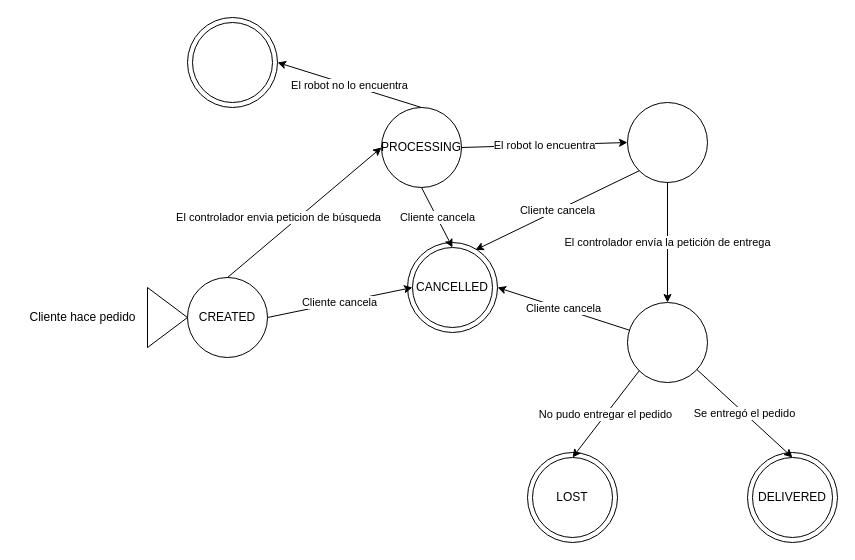
Image size: 855x560. Some labels were removed from this diagram. The shapes that lost their labels are listed below. From the top down, each one's box as (x1, y1, x2, y2) in pixels, then its label:
(192, 22, 272, 102): NOT FOUND
(626, 102, 708, 182): FOUND
(626, 302, 708, 382): ON DELIVER
